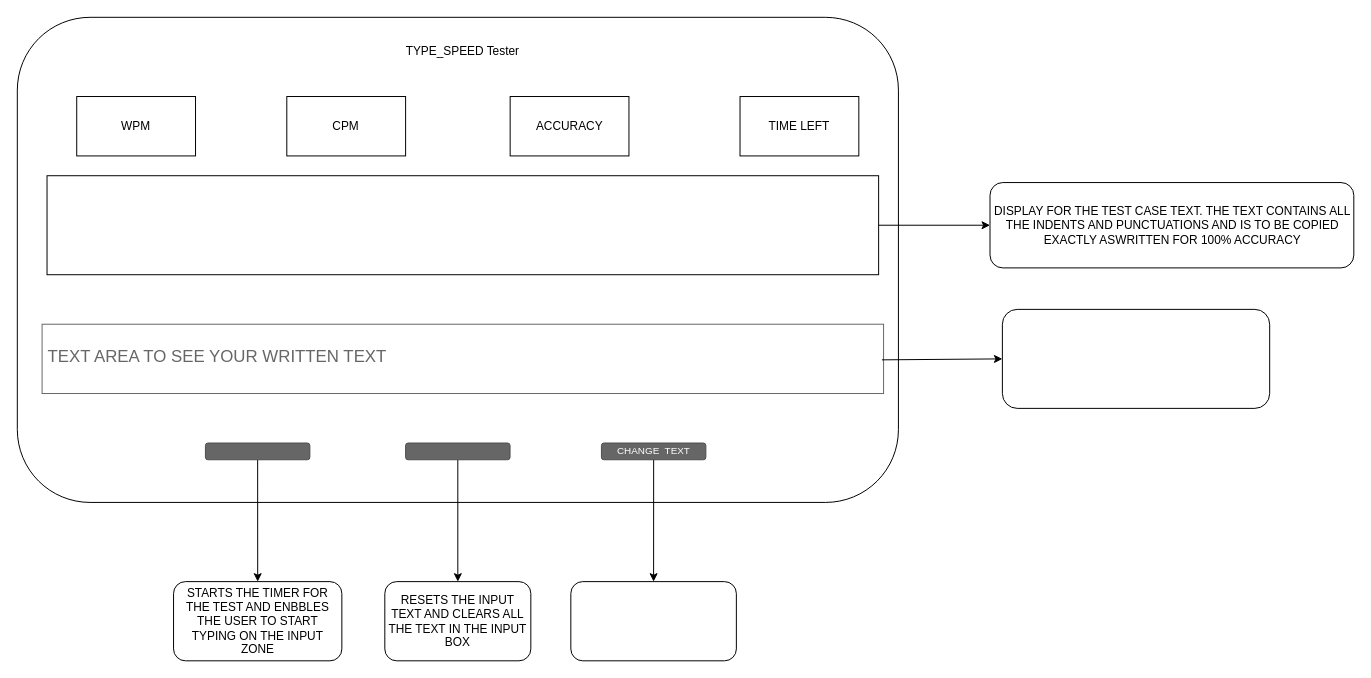
Some shapes in this 1371 by 678 pixel diagram are drawn without their labels. The centre of each missing label's shape, as x and y in pixels:
"CHANGES TEXT FROM THE LIST OF TEXT PHRASES THAT ARE PRELOADED IN THE JS FILE" belongs at [653,621].
"INPUT BOX FOR THE TEXT DIPLAYS YOUR VERSION OF THE TEST TEXT AND PROGRESS." belongs at [1135,358].
"RESET" belongs at [457,451].
"START TEST" belongs at [257,451].
"TEST TEXT FOR TYPING" belongs at [462,225].
